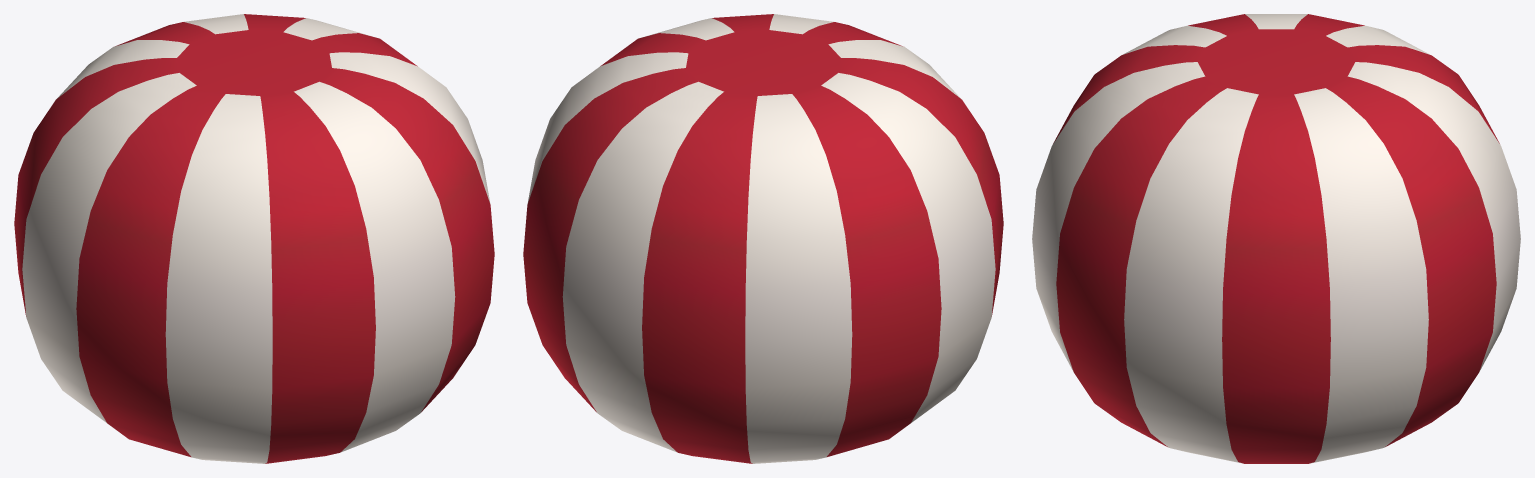
The model's file is candy_hard_13.fbx.
3 views of the same model, side by side, from view 1: azimuth 30°, elevation 25°; view 2: azimuth 150°, elevation 25°; view 3: azimuth 270°, elevation 25° (orthographic).
Parts seen in each view (by area): view 1: c_h_13; view 2: c_h_13; view 3: c_h_13.
Boxes of the visible parts, x1,y1,x2,y2 form: c_h_13: [14, 14, 494, 463]; c_h_13: [523, 14, 1003, 463]; c_h_13: [1032, 14, 1520, 463].
Size of the model in its own units: 134 by 110 by 137.
